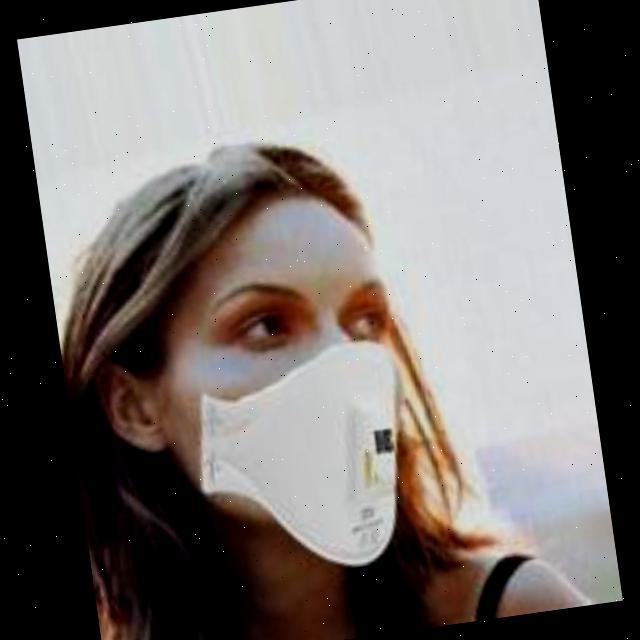suspicion: (90, 145, 453, 569)
